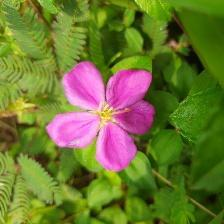malabar melastome: (45, 59, 158, 176)
